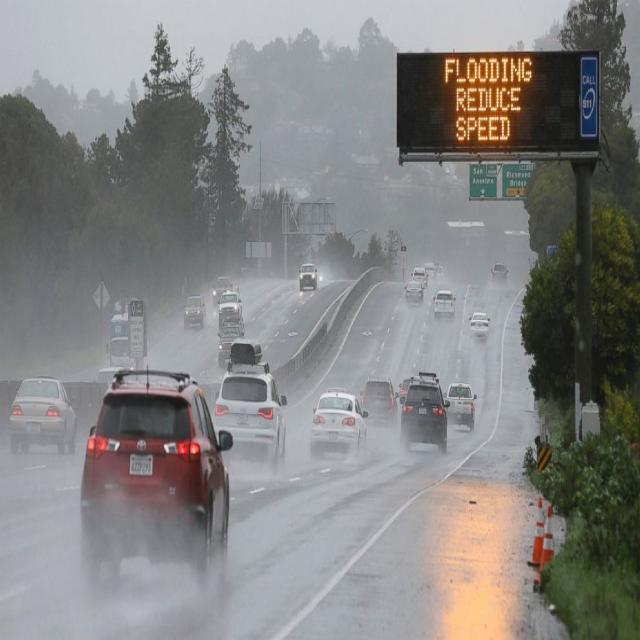bus: (106, 311, 143, 374)
car: (79, 374, 232, 597), (213, 372, 288, 480), (8, 376, 75, 456), (399, 374, 449, 453), (311, 391, 368, 447), (359, 375, 398, 434), (444, 381, 478, 434), (217, 321, 242, 357), (182, 295, 205, 329), (218, 289, 241, 322), (468, 311, 491, 338), (433, 289, 455, 317), (298, 262, 317, 292), (404, 280, 424, 305), (212, 276, 230, 303), (490, 260, 509, 284), (410, 266, 429, 289), (401, 376, 415, 400)
